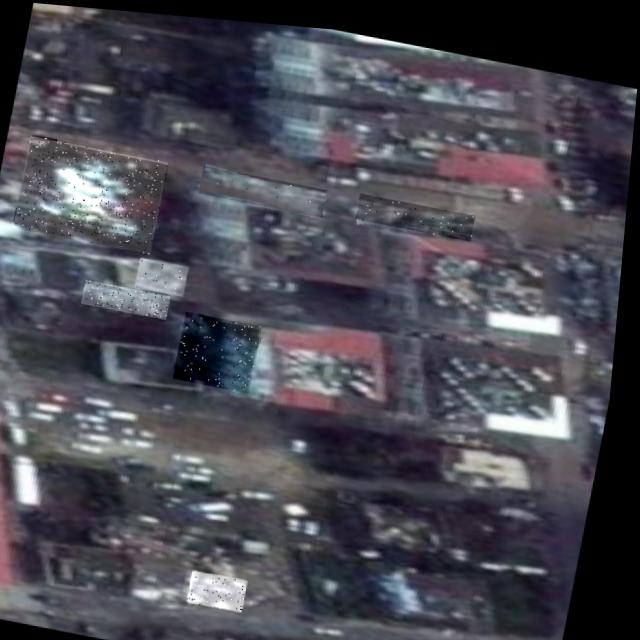Rubble: (15, 133, 170, 251), (177, 306, 267, 388), (200, 161, 330, 211), (357, 185, 478, 232), (84, 277, 175, 316), (195, 564, 257, 607), (139, 254, 192, 293)
